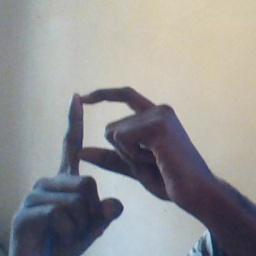D: (41, 79, 175, 196)
